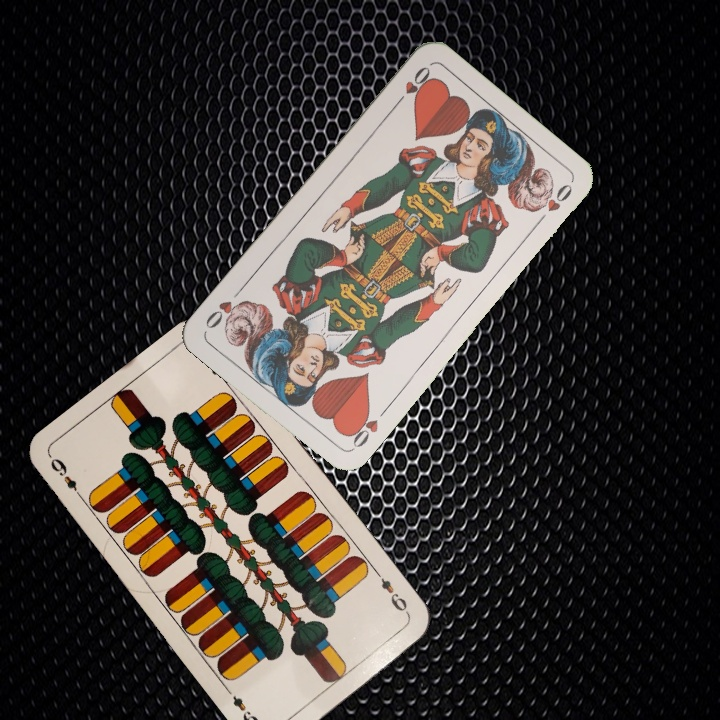E9: (372, 568, 413, 619), (46, 454, 87, 504)
HO: (389, 62, 433, 111), (342, 405, 381, 453)
